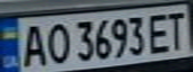3: (72, 17, 96, 63), (127, 12, 148, 57)
6: (90, 16, 115, 61)
9: (109, 15, 130, 58)
A: (18, 20, 48, 69)
E: (145, 10, 172, 55)
O: (42, 20, 72, 65)
T: (163, 8, 193, 52)
